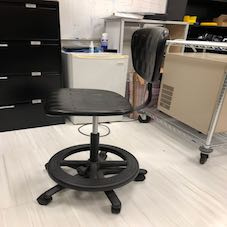chair: (42, 32, 182, 215)
